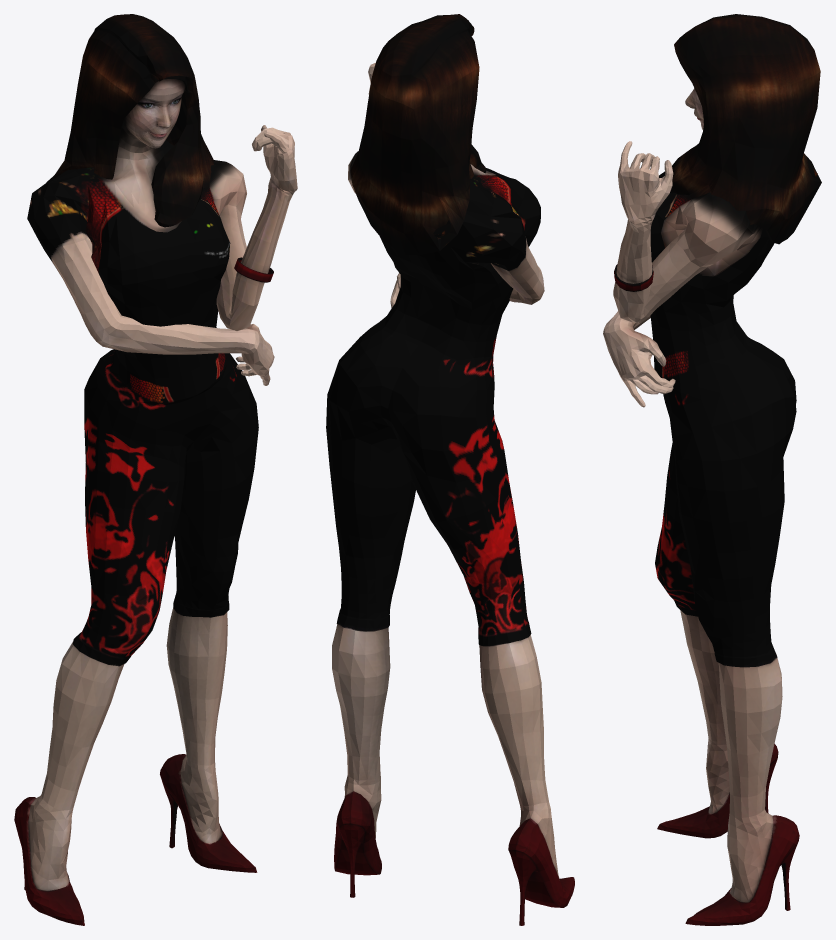
The model's file is Woman_FinalRig.obj.
3 renders of one model, left to right at view 1: azimuth 30°, elevation 25°; view 2: azimuth 150°, elevation 25°; view 3: azimuth 270°, elevation 25°, orthographic. The views are drawn at different scales.
Visible parts, largest first — view 1: Girl_Main_Body_Plane.007; view 2: Girl_Main_Body_Plane.007; view 3: Girl_Main_Body_Plane.007.
Boxes of the visible parts, x1,y1,x2,y2 form: Girl_Main_Body_Plane.007: (14, 14, 297, 925); Girl_Main_Body_Plane.007: (326, 14, 574, 925); Girl_Main_Body_Plane.007: (603, 14, 821, 925).
Bounding box in the file's own units: 43.04 × 154 × 35.54.
1 material, 1 textured.
